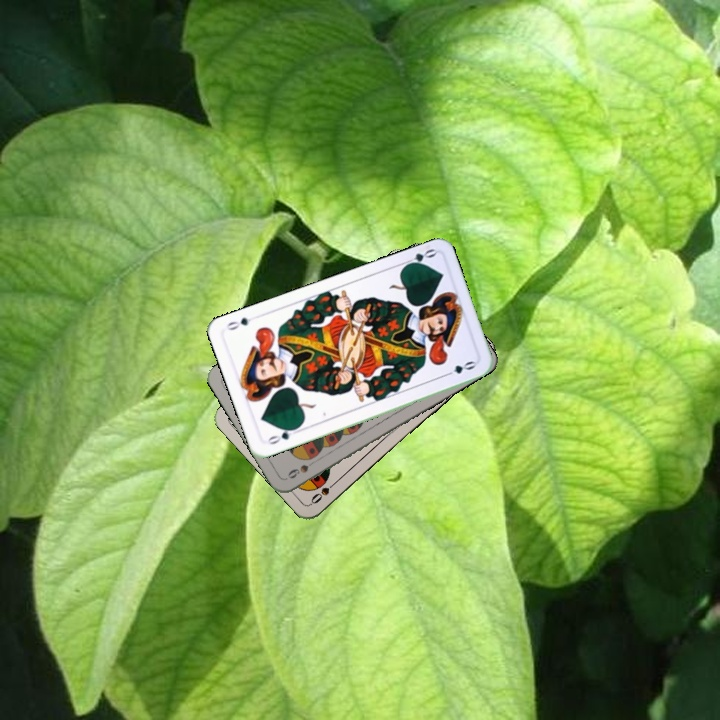GO: (398, 244, 438, 270), (262, 423, 302, 447)
S9: (283, 456, 320, 481)
SO: (307, 476, 341, 506)
